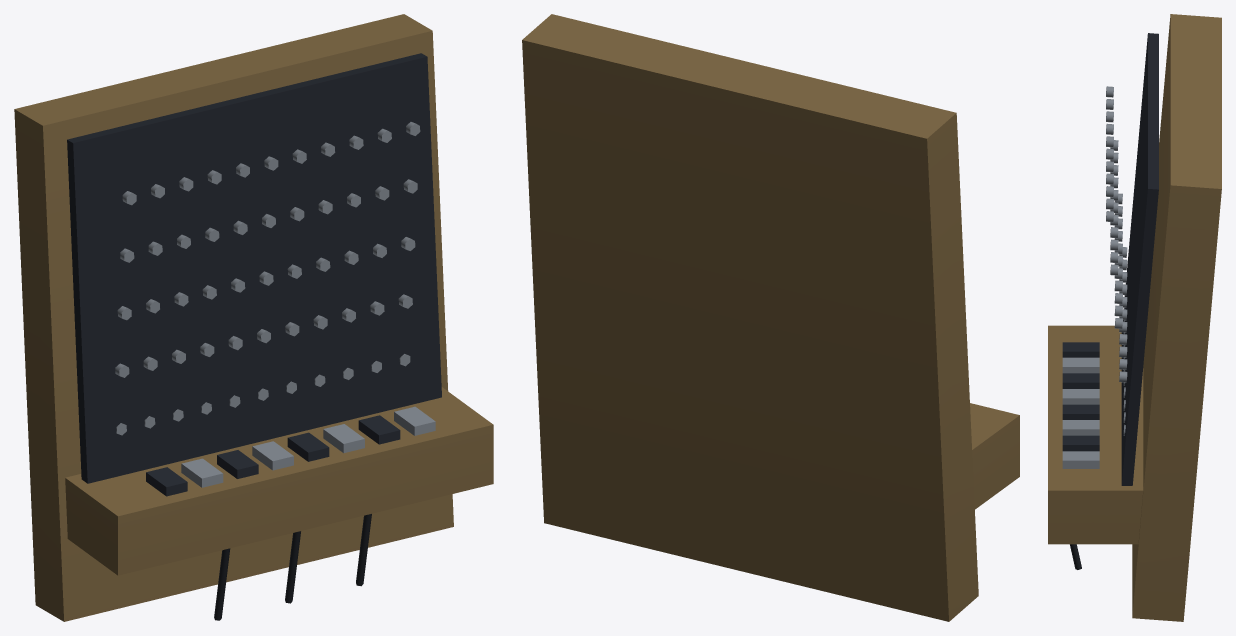
File: switchboard.glb
3 renders of one model, left to right at view 1: azimuth 30°, elevation 25°; view 2: azimuth 150°, elevation 25°; view 3: azimuth 270°, elevation 25°, orthographic. The views are drawn at different scales.
Visible parts, largest first — view 1: switchboard; view 2: switchboard; view 3: switchboard.
Part boxes in pixels (box(x1,y1,x2,y2)): switchboard: box(14, 14, 493, 621); switchboard: box(522, 14, 1019, 621); switchboard: box(1048, 14, 1221, 621).
Size of the model in its own units: 1.1 by 1.31 by 0.4717.
